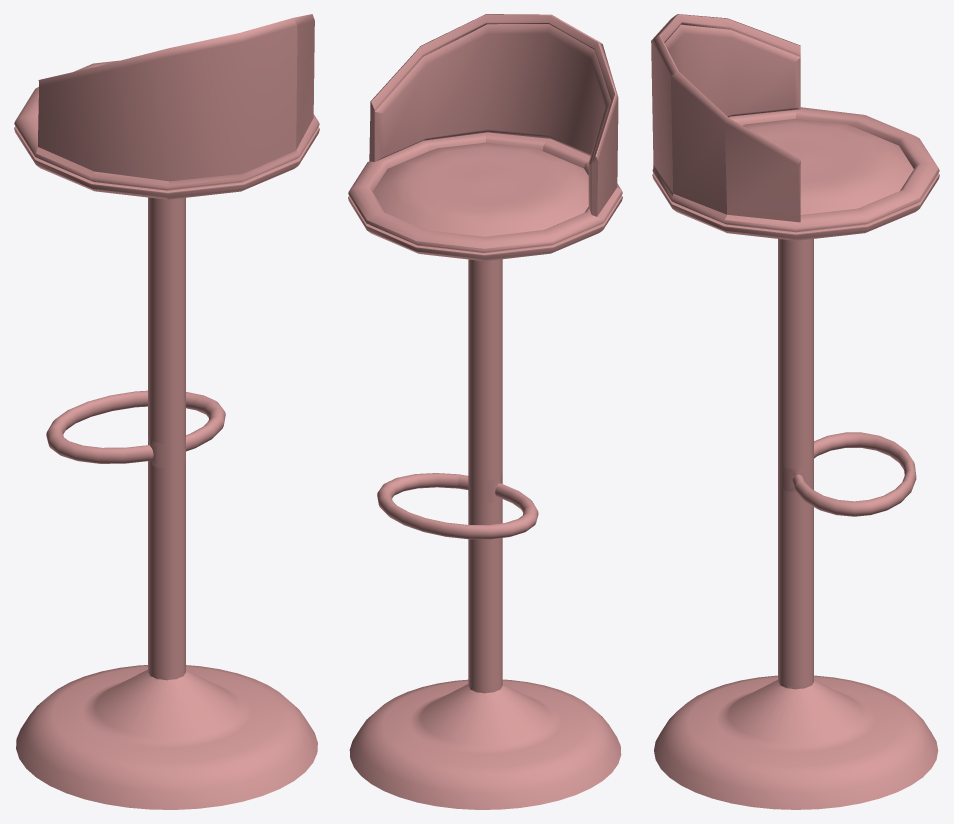
Rendered from BarChairs01.fbx.
3 views of the same model, side by side, from view 1: azimuth 30°, elevation 25°; view 2: azimuth 150°, elevation 25°; view 3: azimuth 270°, elevation 25° (orthographic). The views are drawn at different scales.
Parts seen in each view (by area): view 1: BarChairs01_MESH; view 2: BarChairs01_MESH; view 3: BarChairs01_MESH.
Boxes of the visible parts, x1=… form: BarChairs01_MESH: x1=14, y1=14, x2=319, y2=809; BarChairs01_MESH: x1=348, y1=14, x2=622, y2=809; BarChairs01_MESH: x1=651, y1=14, x2=939, y2=809.
Size of the model in its own units: 38.54 by 107 by 39.14.
